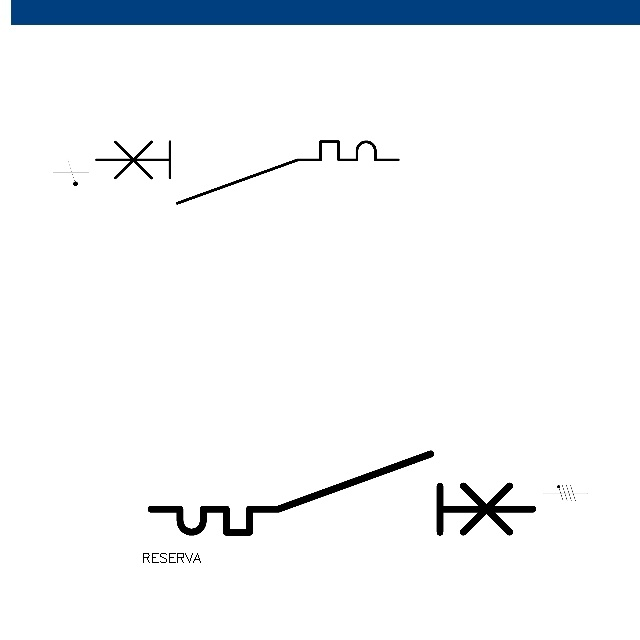interruptor_termomagnetico: (141, 444, 542, 542), (88, 134, 405, 211)
